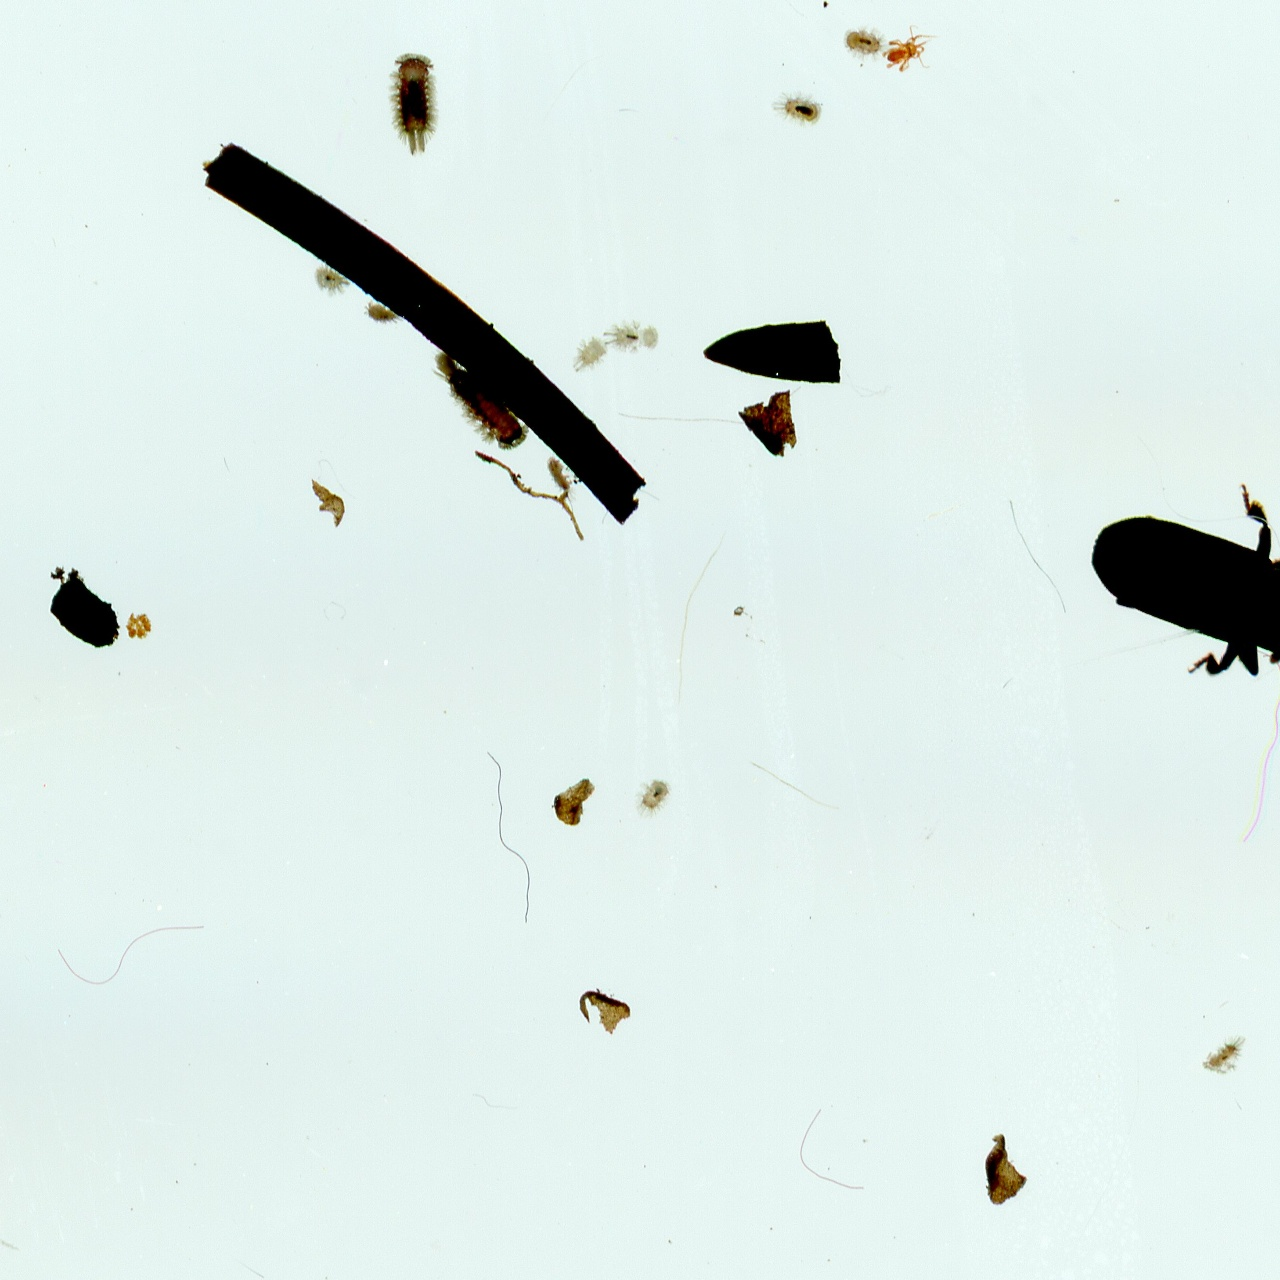arthropod: (1090, 483, 1280, 676), (429, 345, 530, 450), (388, 46, 442, 157), (883, 22, 933, 75), (1196, 1034, 1251, 1076), (774, 89, 825, 129), (607, 318, 659, 353), (840, 23, 883, 59), (566, 336, 606, 372), (543, 451, 572, 498), (365, 298, 402, 329), (636, 776, 668, 810), (315, 263, 347, 294)
